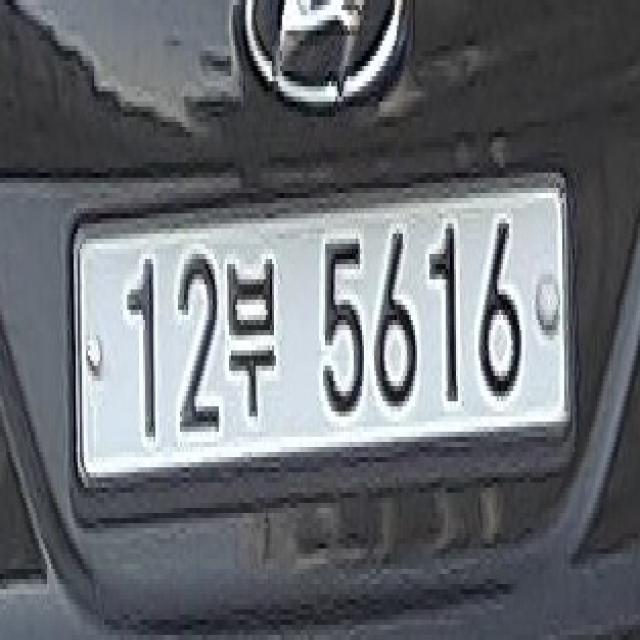1: (119, 244, 170, 462), (426, 208, 466, 427)
2: (174, 239, 223, 462)
5: (317, 228, 368, 426)
6: (474, 203, 528, 422), (368, 218, 421, 422)
bu: (221, 228, 282, 432)
license_plate: (61, 142, 579, 544)
